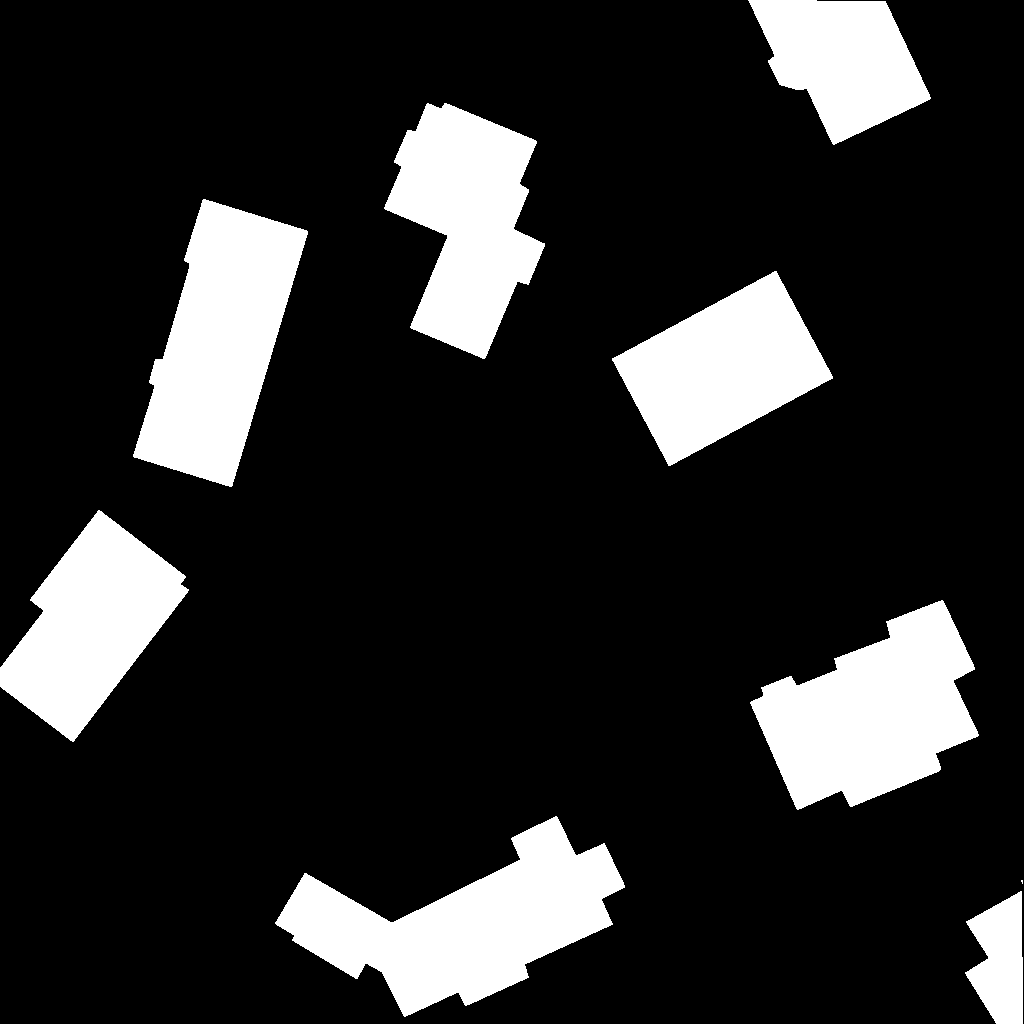building: (275, 816, 626, 1018), (133, 199, 309, 488), (750, 600, 980, 811), (0, 510, 190, 743), (612, 271, 834, 467), (384, 103, 546, 360), (748, 0, 932, 146), (965, 880, 1024, 1024)
